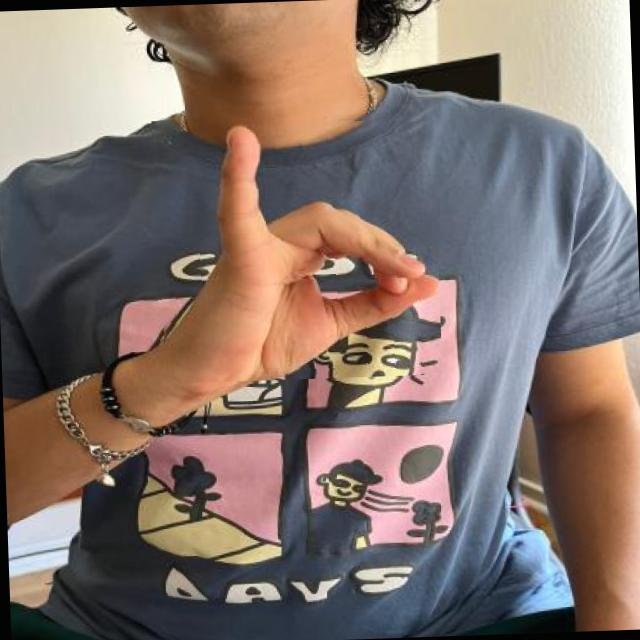D: (151, 112, 442, 386)
